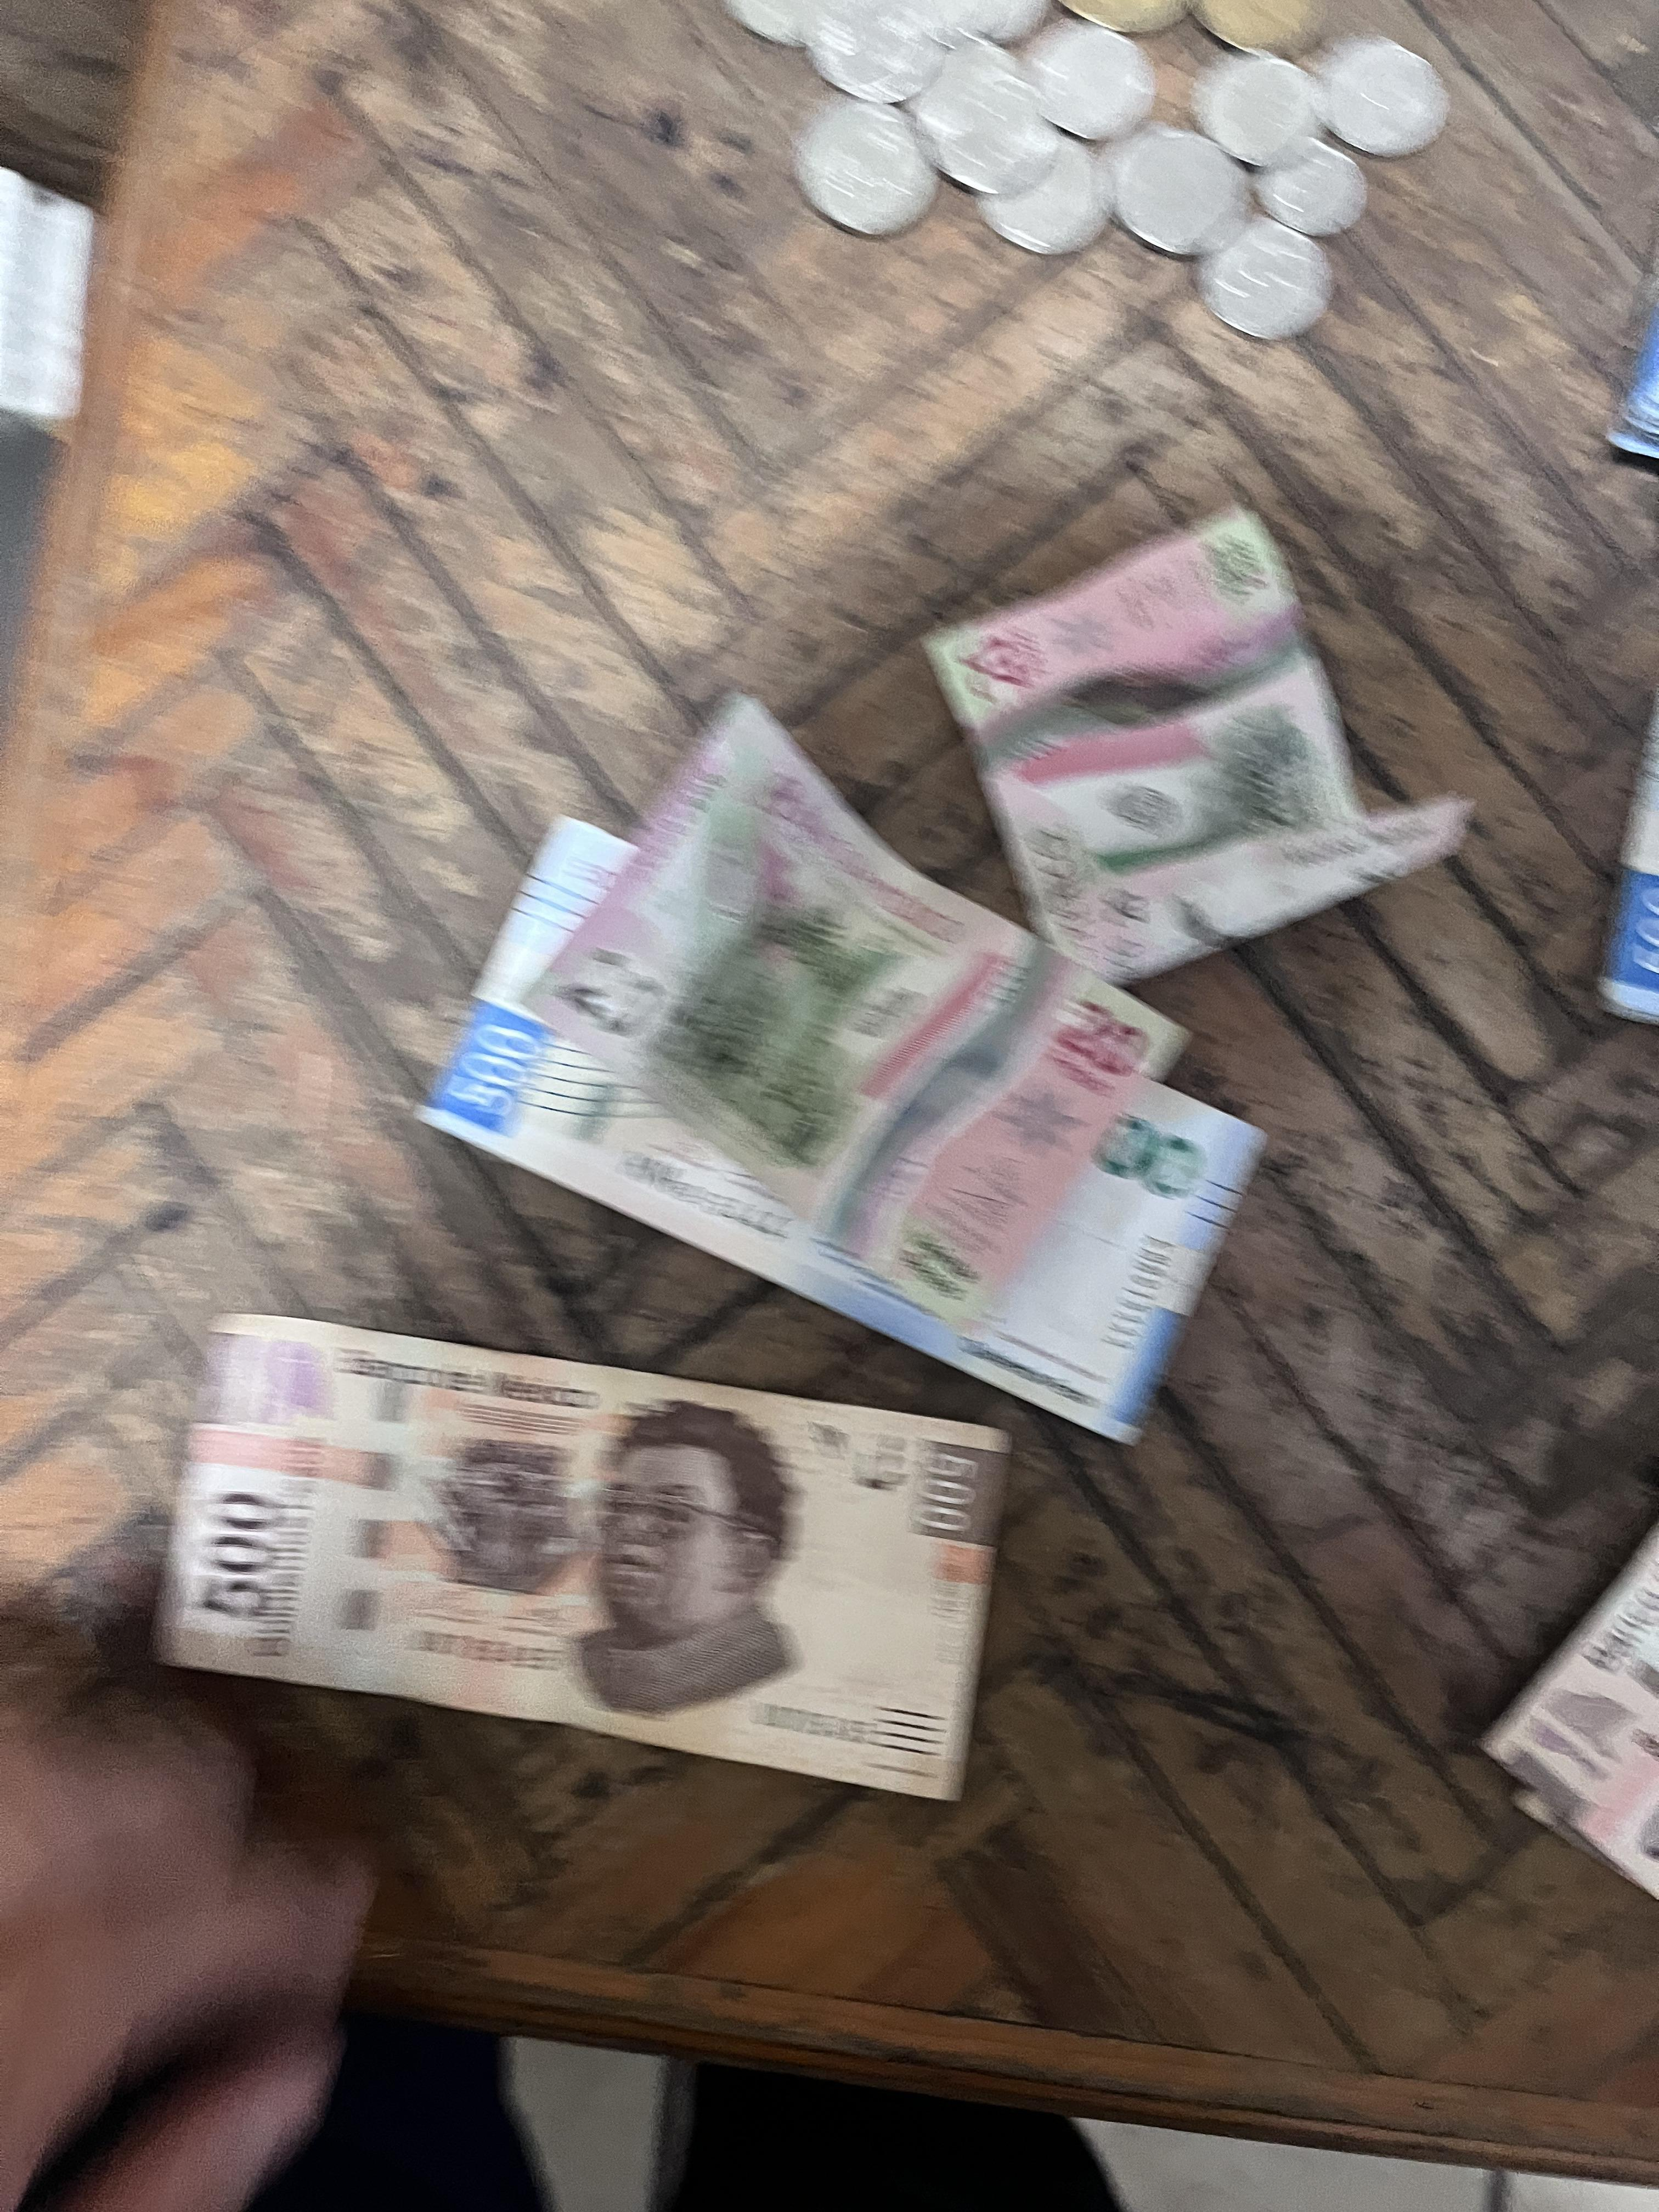20: (551, 697, 1244, 1433), (924, 512, 1478, 993)
500: (155, 1317, 1012, 1810), (1448, 1451, 1659, 1963)
500 nuevo: (411, 801, 608, 1258)
